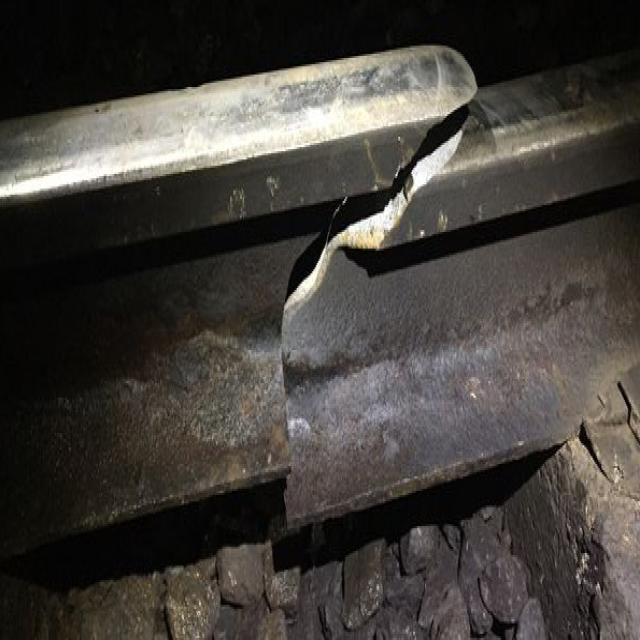broken_rail_high: (271, 69, 483, 516)
